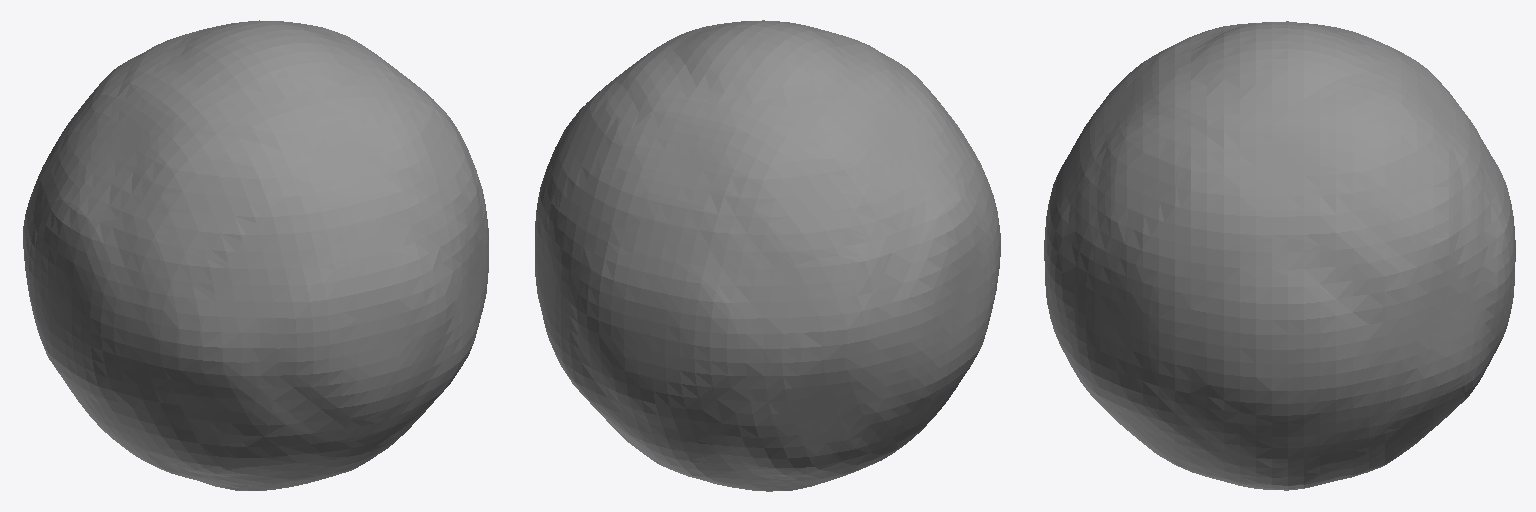
robot.urdf — cube.urdf:
<?xml version="0.0" ?> 
<robot name="cube.urdf"> 
<link name="legobrick"> 
<contact> 
<lateral_friction value="5.0"/> 
<rolling_friction value="0.0"/> 
<contact_cfm value="0.0"/> 
<contact_erp value="1.0"/> 
</contact> 
<inertial> 
<origin rpy="0 0 0" xyz="0.0 0.0 0.0"/> 
<mass value=".01"/> 
<inertia ixx="1" ixy="0" ixz="0" iyy="1" iyz="0" izz="1"/> 
</inertial> 
<visual> 
<origin rpy="1.570796 0 0" xyz="-0.037360175569346336 0.03783945274177322 -0.03717123929747668"/> 
<geometry> 
<mesh filename="A02_0.obj" scale="0.0006881717940426716 0.0006881717940426716 0.0006881717940426716"/> 
</geometry> 
<material name="yellow"> 
<color rgba="0.6 0.6 0.6 1"/> 
</material> 
</visual> 
<collision> 
<origin rpy="1.570796 0 0" xyz="-0.037360175569346336 0.03783945274177322 -0.03717123929747668"/> 
<geometry> 
<mesh filename="A02_0.obj" scale="0.0006881717940426716 0.0006881717940426716 0.0006881717940426716"/> 
</geometry> 
</collision> 
</link> 
</robot>

--- Render facts (derived) ---
Views: 3 orthographic renders of the robot side by side, from view 1: azimuth 30°, elevation 25°; view 2: azimuth 150°, elevation 25°; view 3: azimuth 270°, elevation 25°.
Model cube.urdf with 1 links and 0 joints (none), rooted at legobrick, posed all joints at 0.
Visible links, largest first — view 1: legobrick; view 2: legobrick; view 3: legobrick.
Link boxes in pixels (x1,y1,x2,y2): legobrick: (23,20,488,490); legobrick: (535,20,1000,491); legobrick: (1044,21,1515,490).
Bounding box of the posed robot: 0.056 × 0.0561 × 0.056 m (x, y, z).
1 mesh visuals loaded from 1 distinct referenced files (1 OBJ).
